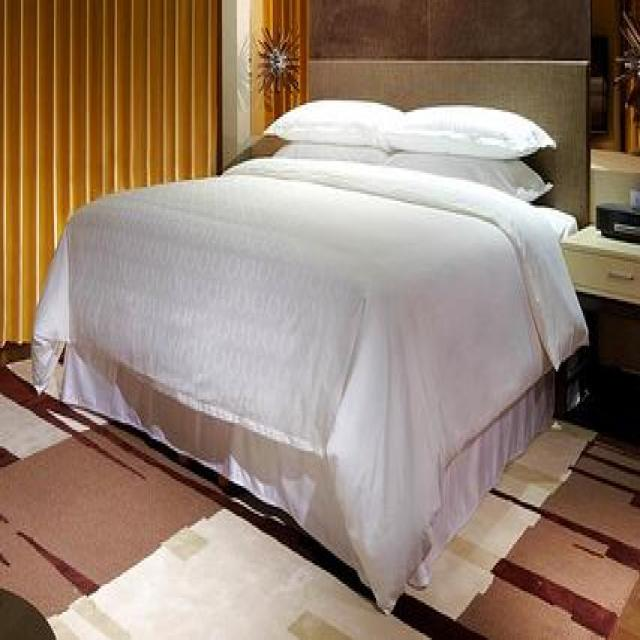bed: (30, 56, 591, 614)
